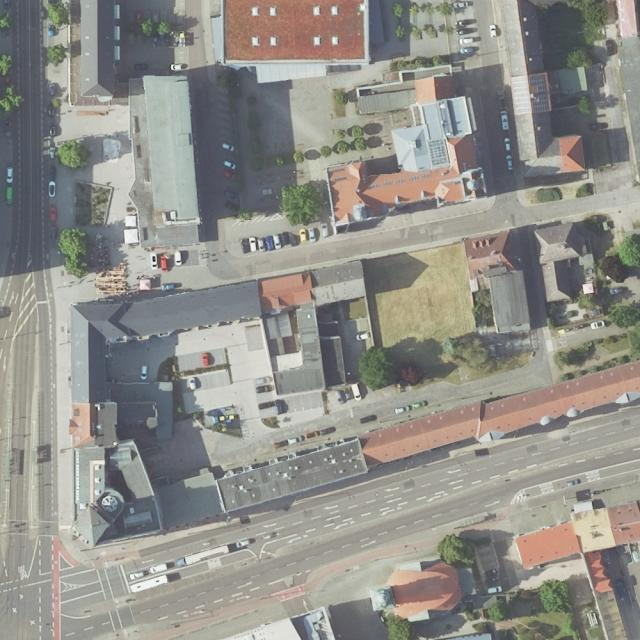PV: (512, 76, 532, 115), (528, 74, 548, 112)
